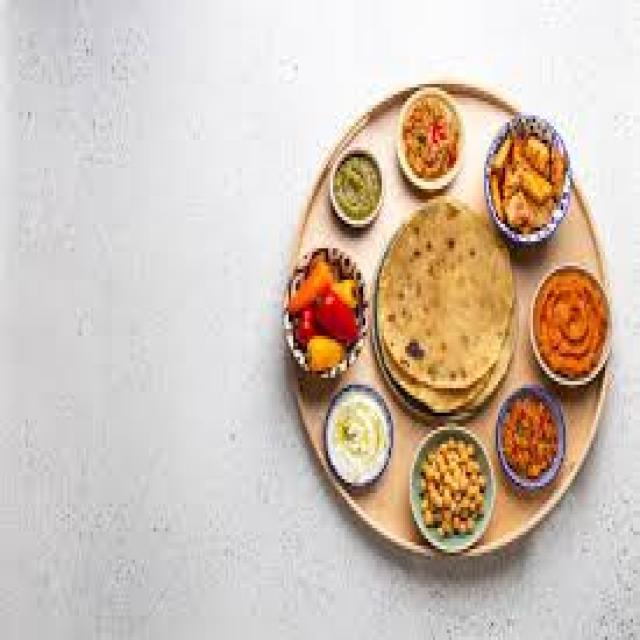pickle: (481, 116, 578, 242)
raita: (312, 395, 395, 491)
roti: (373, 196, 518, 411)
veg: (392, 86, 474, 195)
veg-fry: (491, 387, 573, 490)
